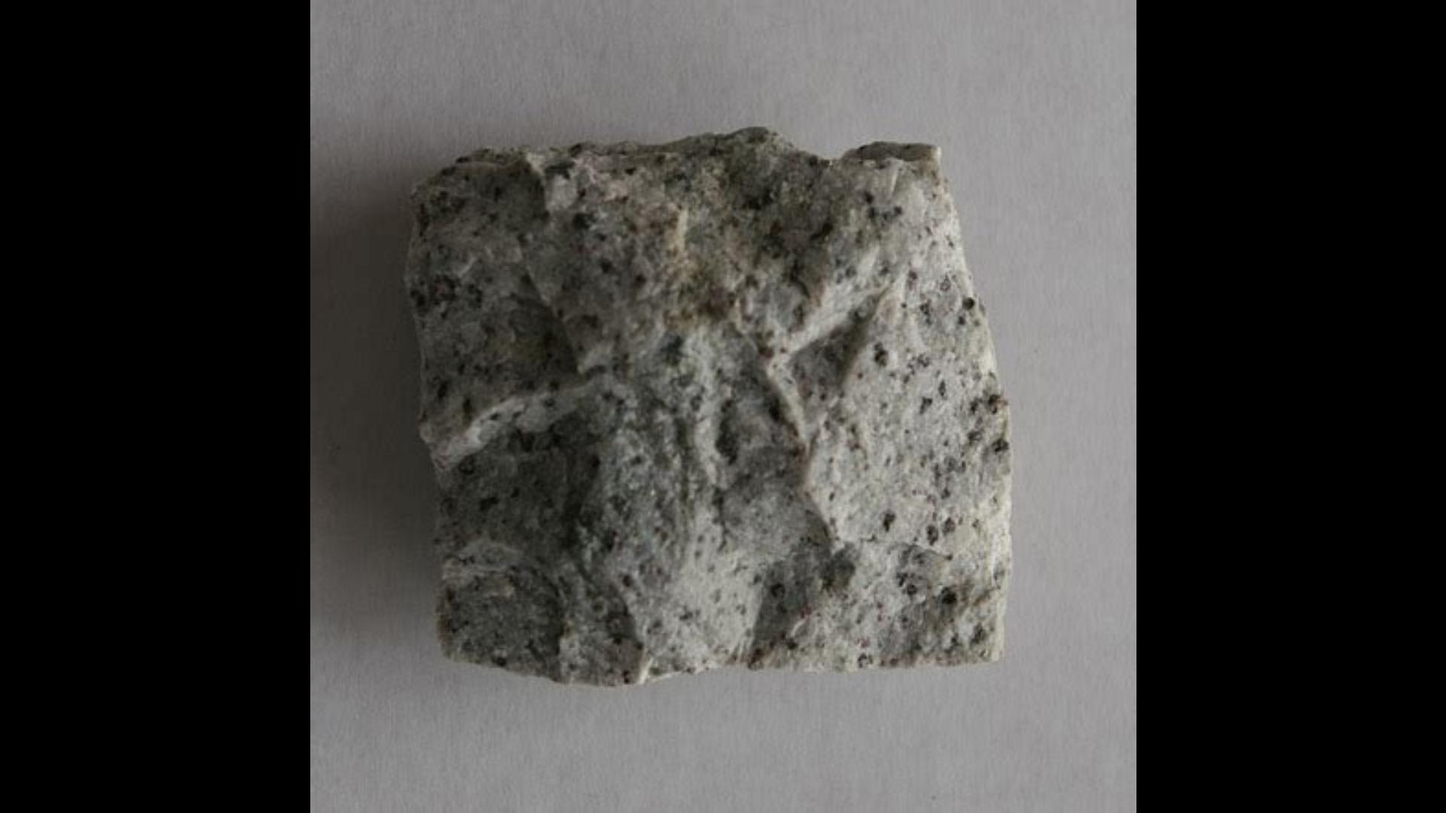rock: (407, 128, 1004, 681)
